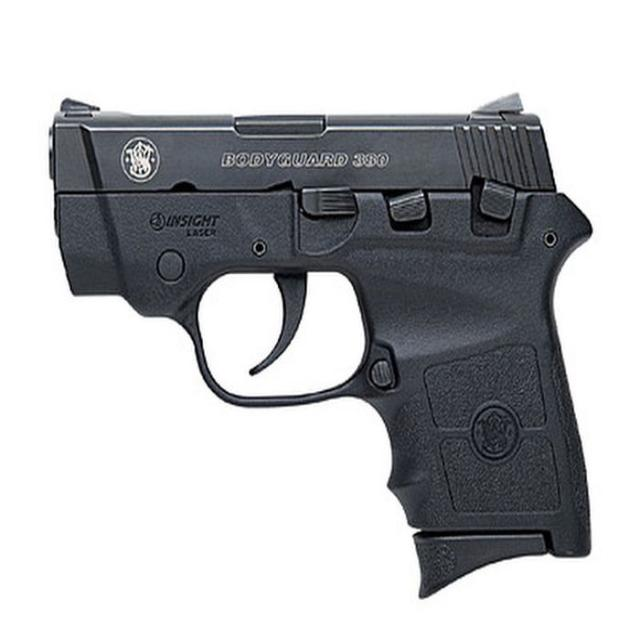HandGun: (48, 94, 594, 601)
